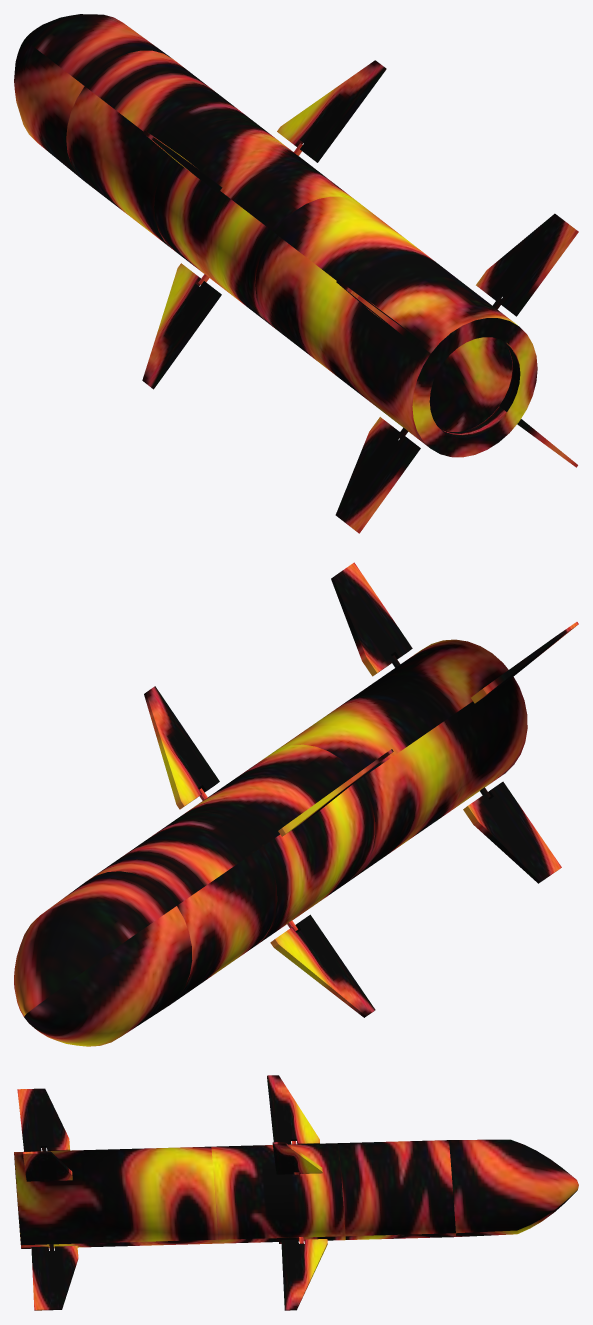
Rendered from bullet.glb.
The picture shows the model from 3 angles, top to bottom: view 1: azimuth 30°, elevation 25°; view 2: azimuth 150°, elevation 25°; view 3: azimuth 270°, elevation 25°; orthographic projection. The views are drawn at different scales.
Parts seen in each view (by area): view 1: Cylinder.003_Cylinder.005; view 2: Cylinder.003_Cylinder.005; view 3: Cylinder.003_Cylinder.005.
Boxes of the visible parts, x1=… form: Cylinder.003_Cylinder.005: x1=14, y1=14, x2=578, y2=533; Cylinder.003_Cylinder.005: x1=14, y1=562, x2=578, y2=1046; Cylinder.003_Cylinder.005: x1=14, y1=1075, x2=578, y2=1310.
Size of the model in its own units: 3.9 by 4.11 by 12.14.
1 material, 1 textured.
